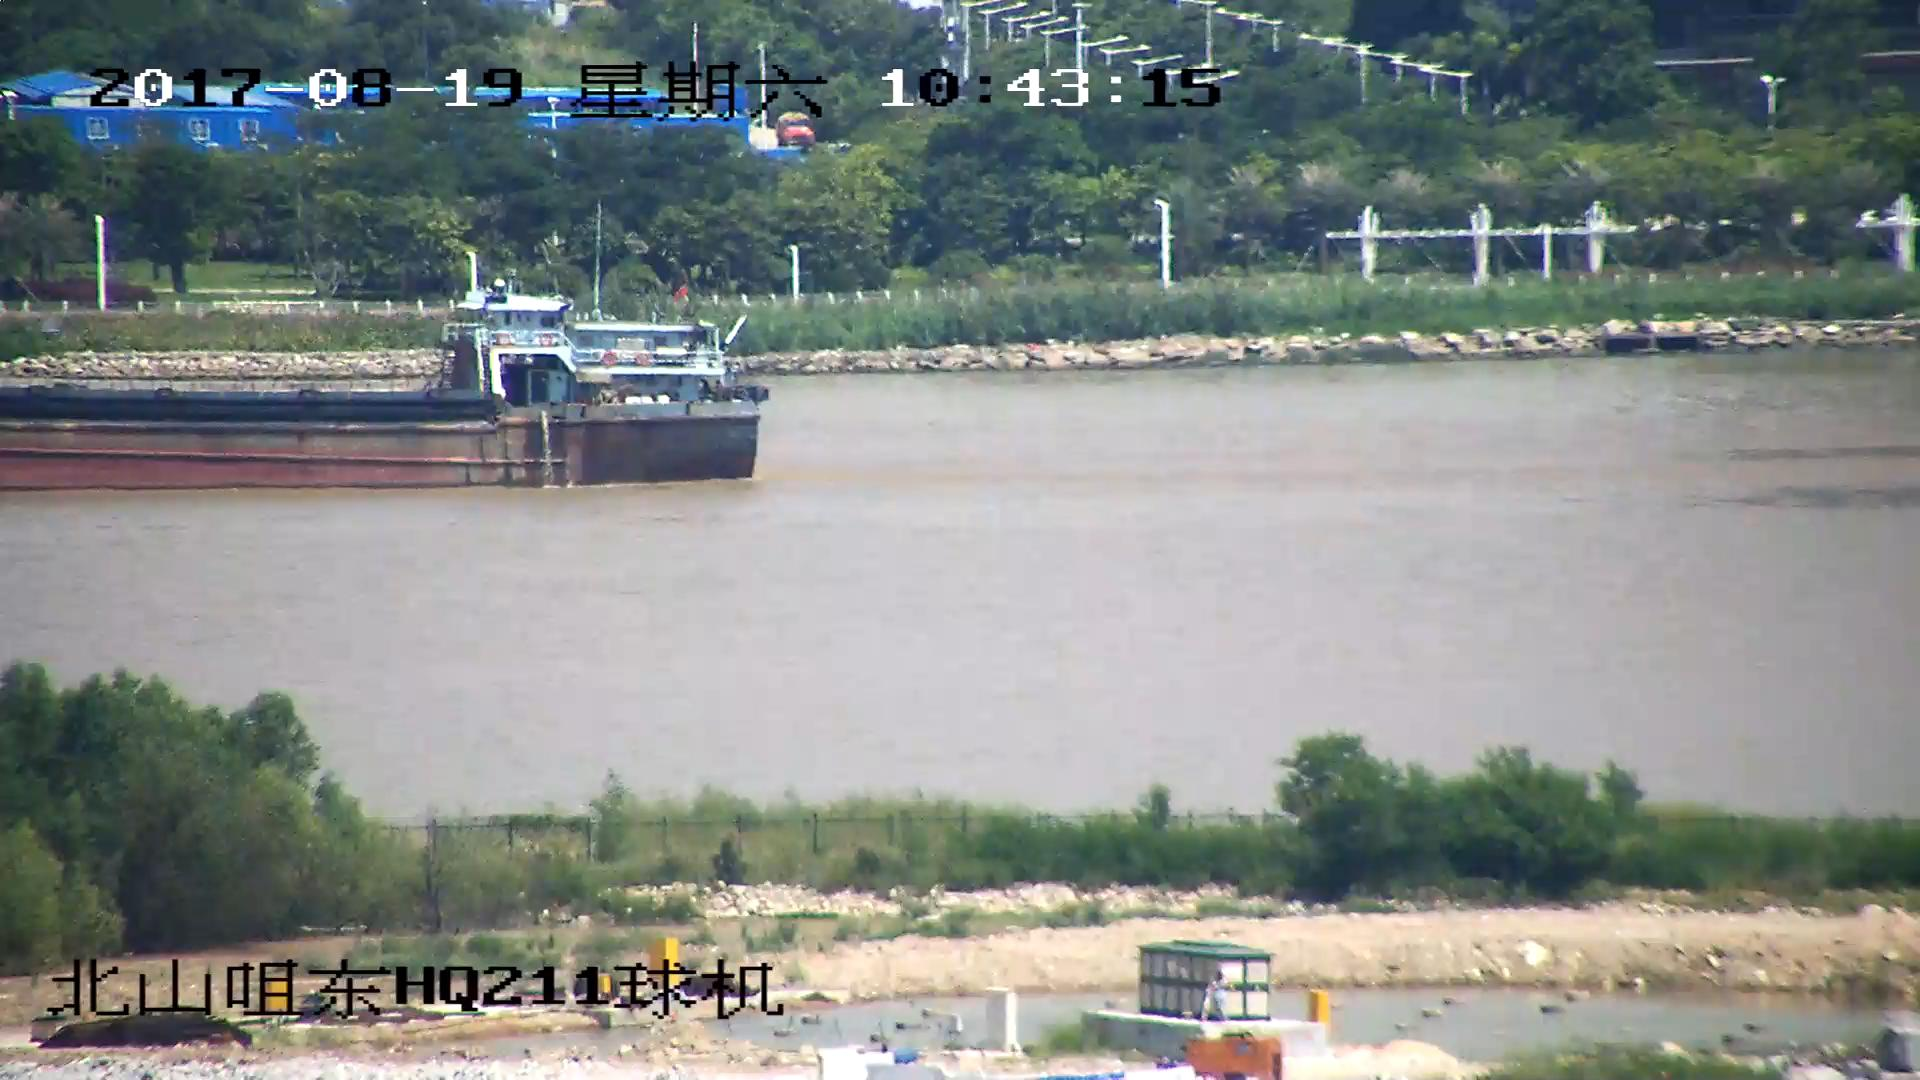bulk cargo carrier: (1, 254, 758, 492)
